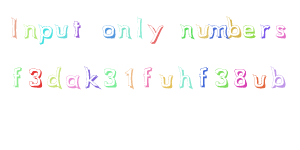1: (120, 64, 138, 90)
3: (26, 65, 45, 90), (101, 64, 119, 89), (214, 66, 230, 89)
8: (232, 67, 249, 89)
I: (9, 16, 28, 40)
a: (64, 70, 82, 90)
b: (226, 13, 242, 41), (269, 66, 287, 89)
d: (46, 64, 65, 90)
e: (241, 21, 257, 40)
f: (9, 63, 24, 90), (140, 64, 155, 90), (195, 65, 211, 89)
h: (176, 65, 194, 89)
k: (82, 64, 102, 90)
l: (133, 15, 146, 40)
m: (208, 23, 228, 41)
n: (178, 21, 196, 41), (22, 22, 38, 40), (117, 21, 132, 40)
o: (99, 23, 117, 40)
p: (37, 23, 54, 47)
r: (258, 21, 272, 41)
s: (274, 21, 289, 40)
t: (70, 18, 85, 40)
u: (251, 69, 268, 90), (158, 71, 174, 90), (54, 21, 69, 40), (195, 21, 210, 40)
y: (146, 22, 165, 47)
